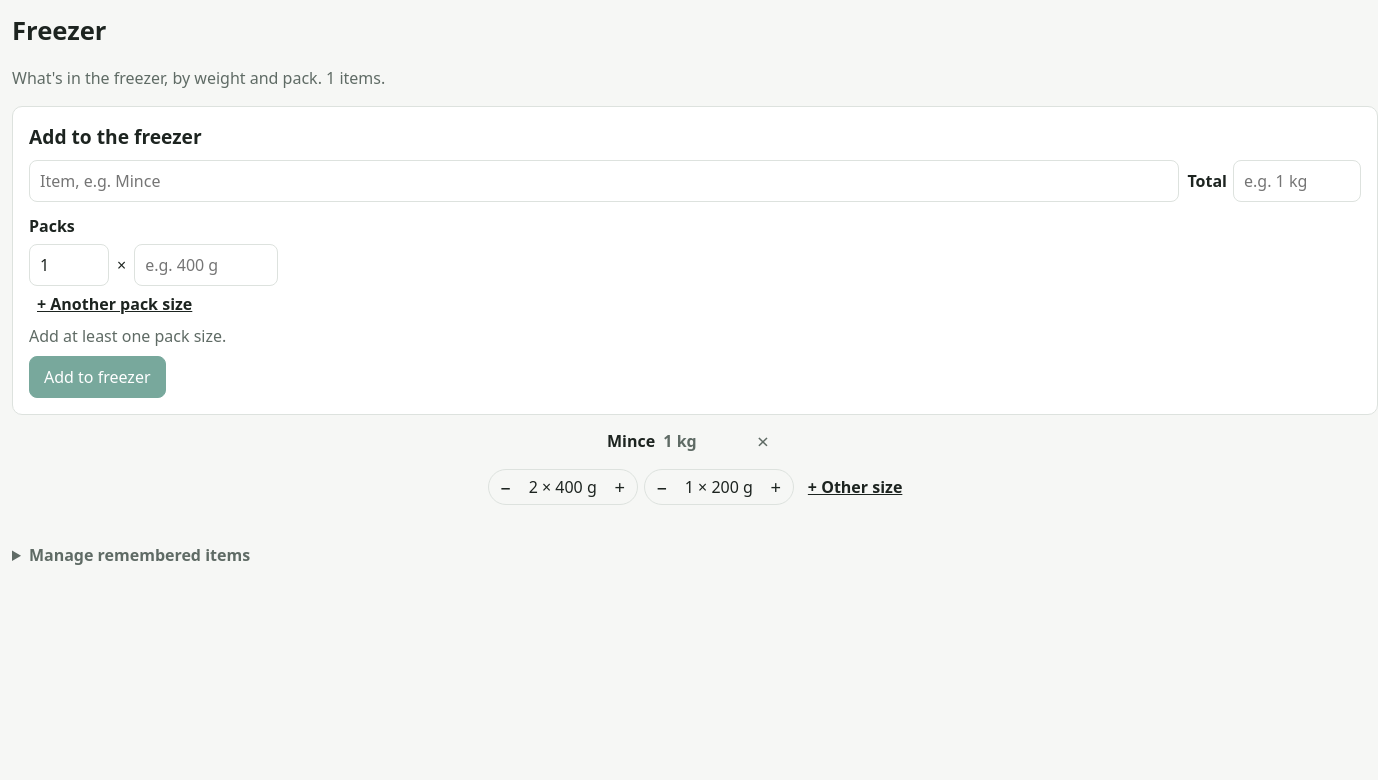
Scenario: FreezerPage › adds a pack of a new size
Check: the text "Mince" is shown, box left=607, top=430, right=655, bottom=452
Click the button "+ Other size": (851, 487) left=800, top=475, right=902, bottom=499
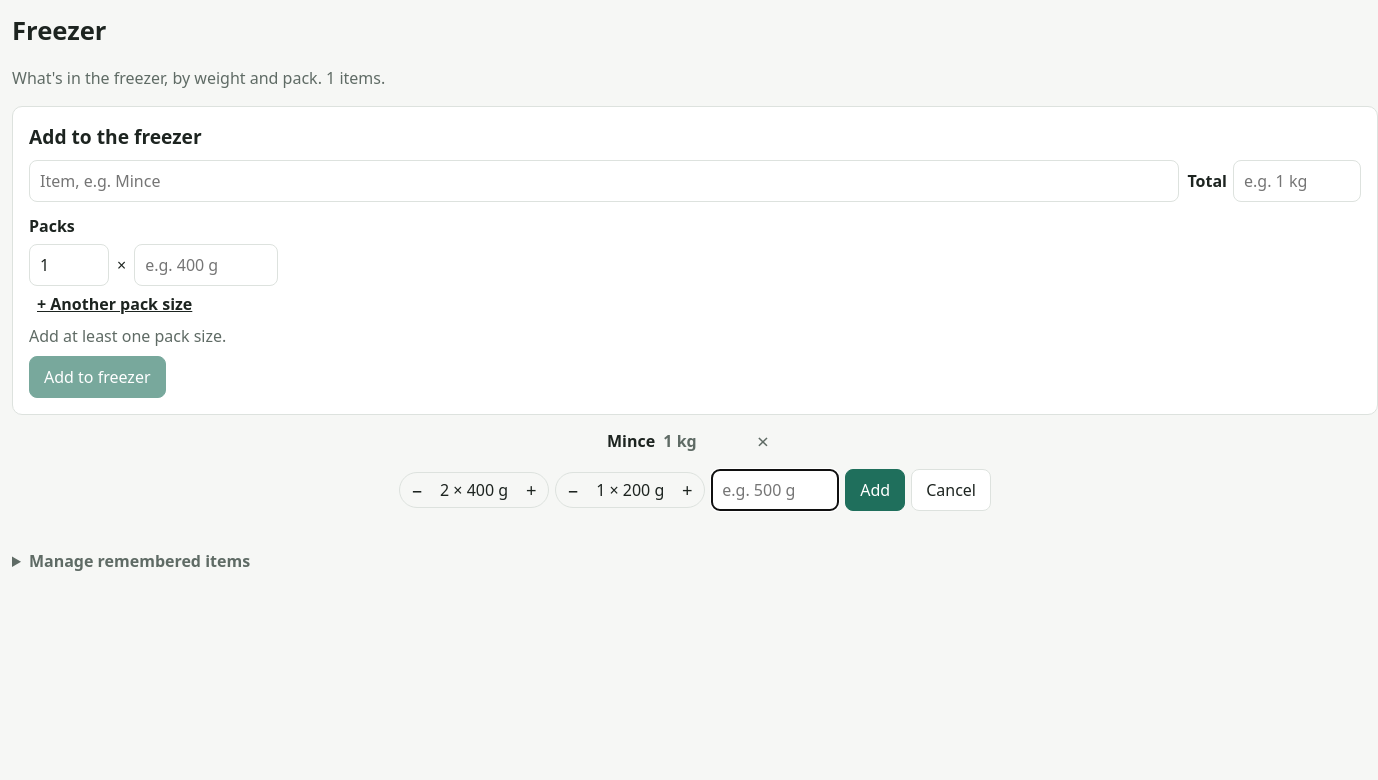
In the field named "New pack weight for Mince": (775, 490) left=711, top=469, right=839, bottom=511, type "0.5kg"
Then press Enter
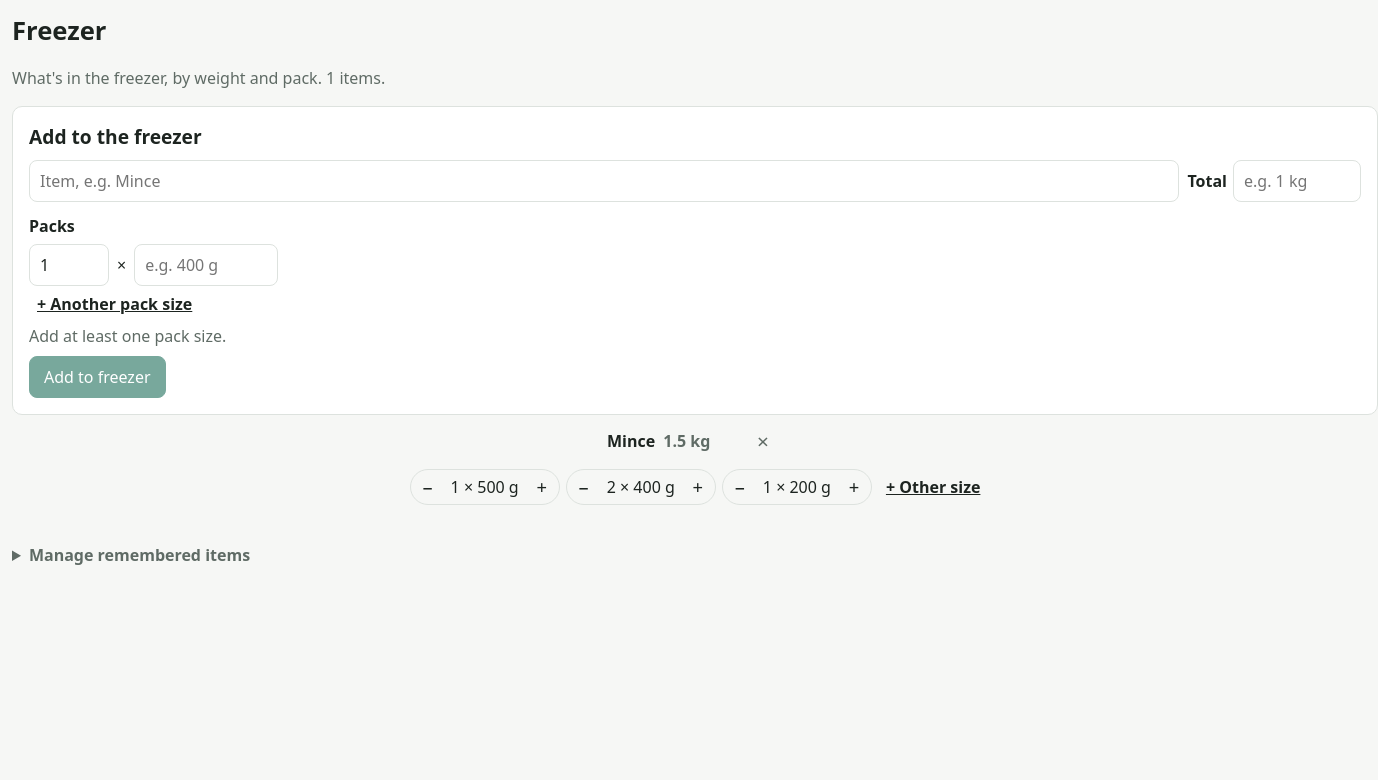
Check: the text "1 × 500 g" is shown, box left=445, top=475, right=525, bottom=499
